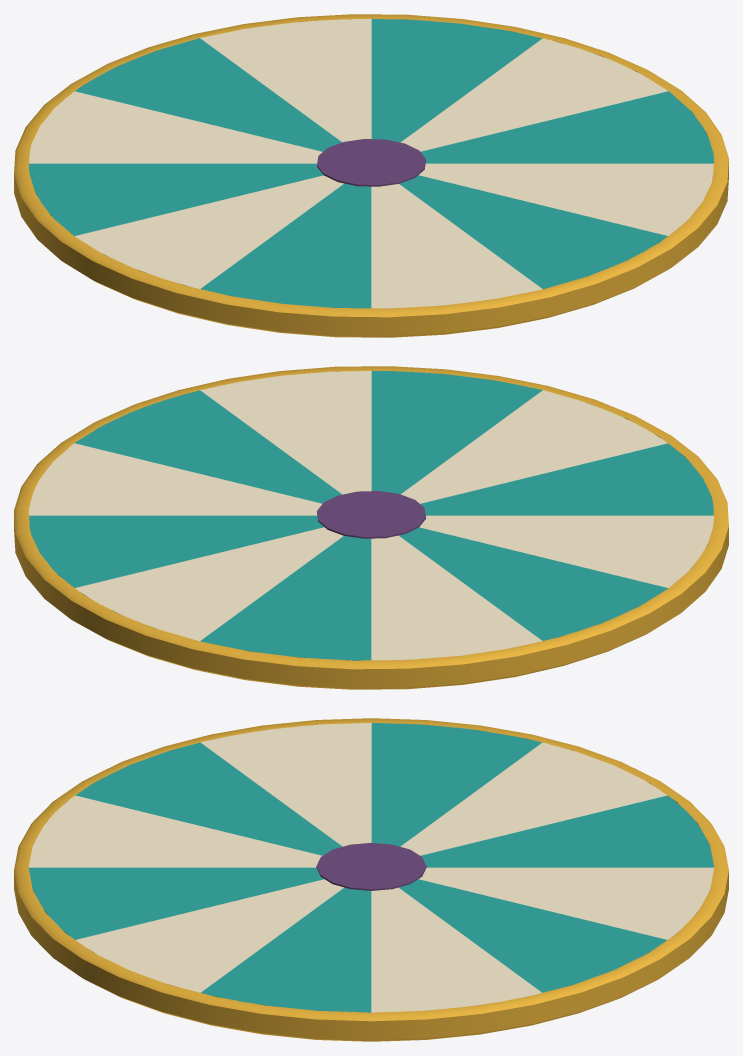
File: dash_disc.glb
3 views of the same model, one above another, from view 1: azimuth 30°, elevation 25°; view 2: azimuth 150°, elevation 25°; view 3: azimuth 270°, elevation 25° (orthographic).
Parts seen in each view (by area): view 1: dash_disc; view 2: dash_disc; view 3: dash_disc.
Boxes of the visible parts, x1,y1,x2,y2 form: dash_disc: [14, 14, 728, 337]; dash_disc: [14, 366, 728, 689]; dash_disc: [14, 718, 728, 1041].
Bounding box in the file's own units: 7.8 × 0.32 × 7.8.
